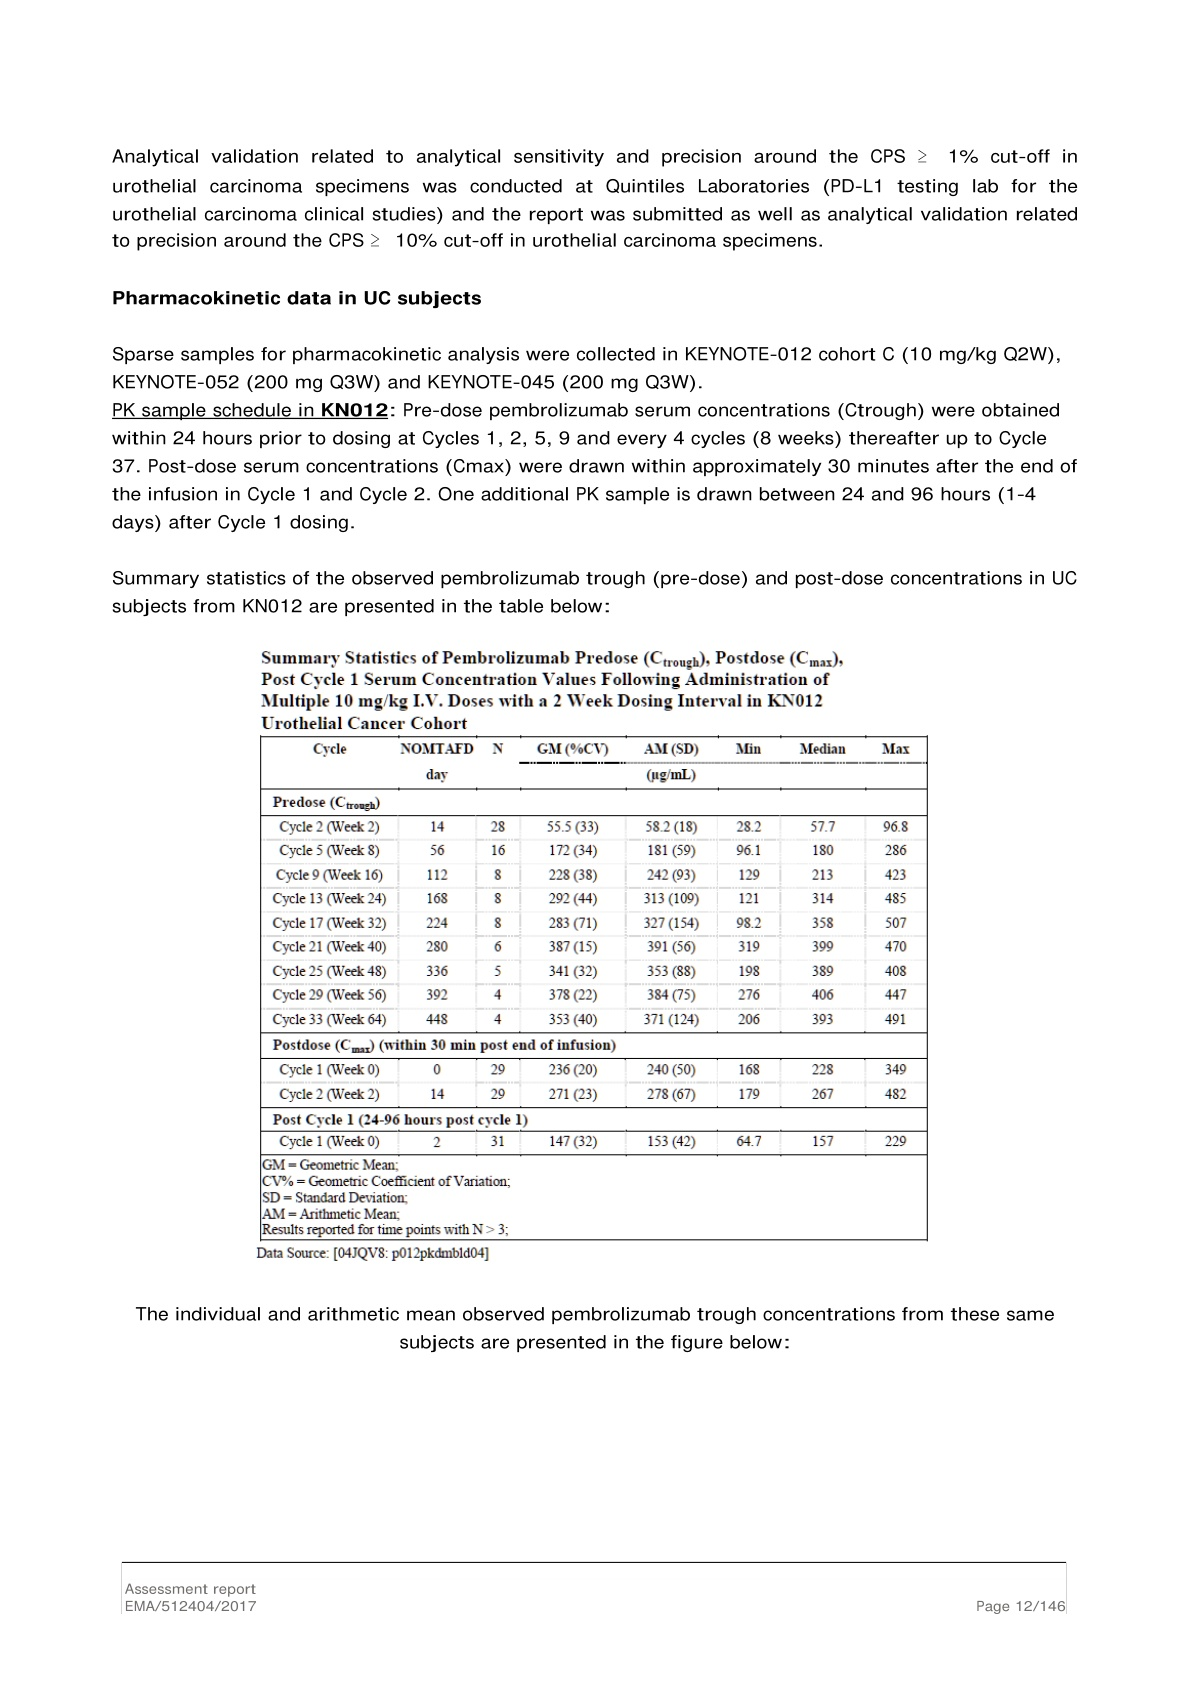partial_lined_merged_cells: (259, 735, 930, 1243)
